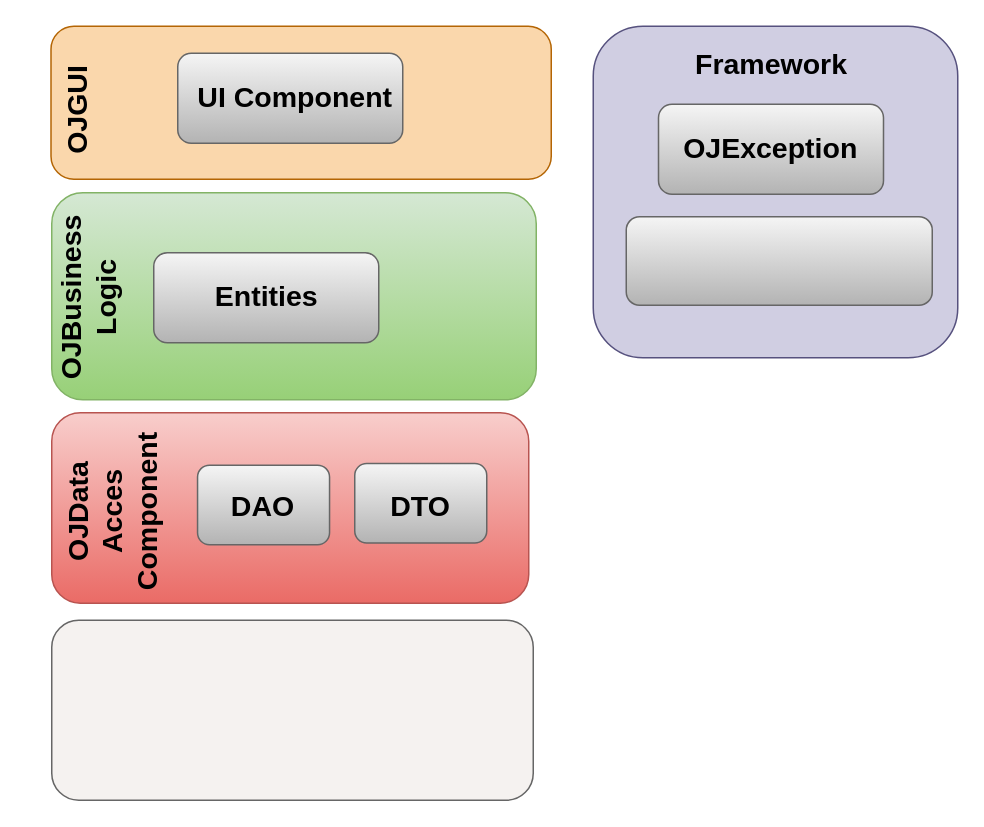
Image size: 984x827. Some labels were removed from this diagram. The box of each missing label's shape, as (x1, y1, x2, y2) in pixels:
OJConfiguraciones: (625, 215, 932, 305)
OJDATA: (50, 619, 533, 800)
